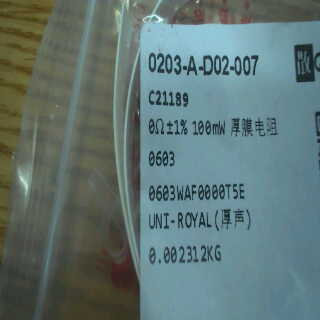0R: (147, 112, 227, 175)
